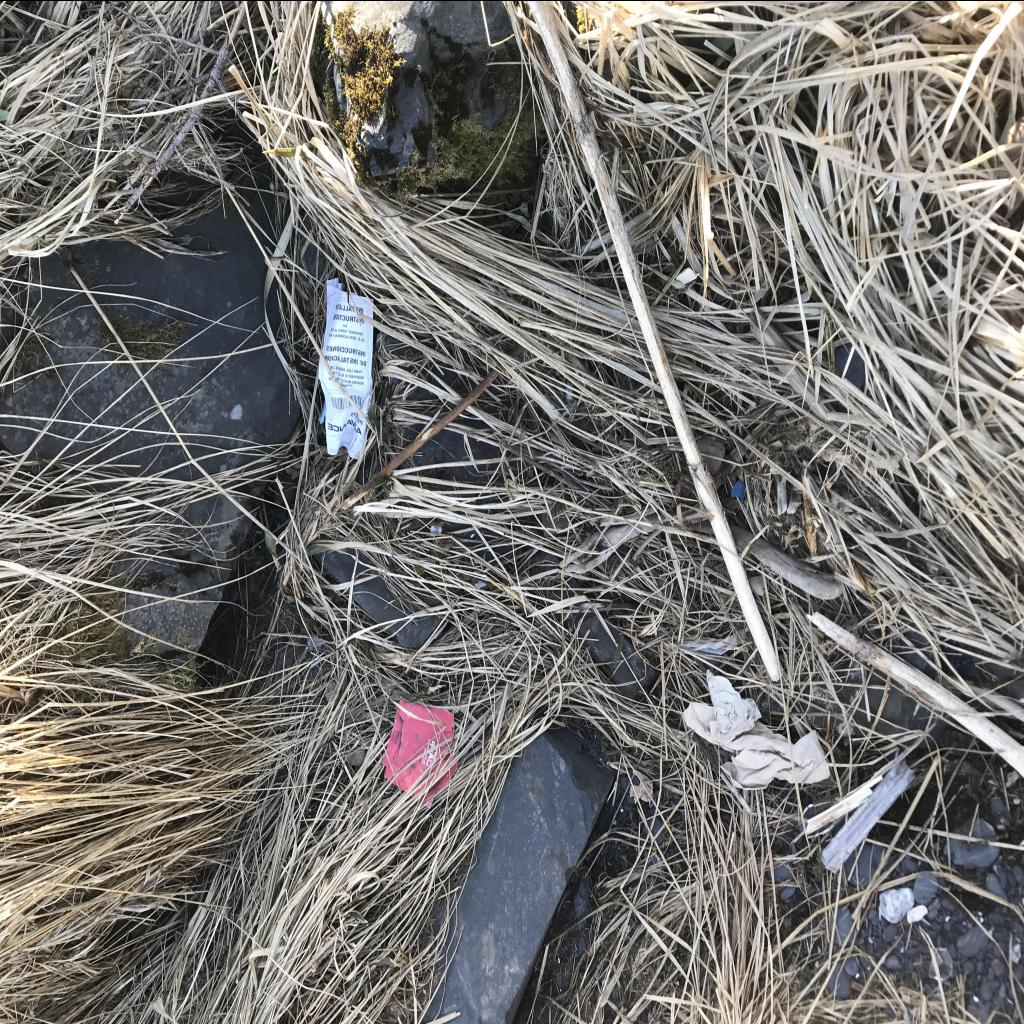Meal carton: (384, 700, 460, 808)
Normal paper: (319, 277, 373, 459)
Other plastic bottle: (732, 480, 746, 500)
Plastic film: (820, 756, 914, 872)
Tissues: (682, 667, 830, 789)
Unlabeled litter: (687, 631, 744, 653)
